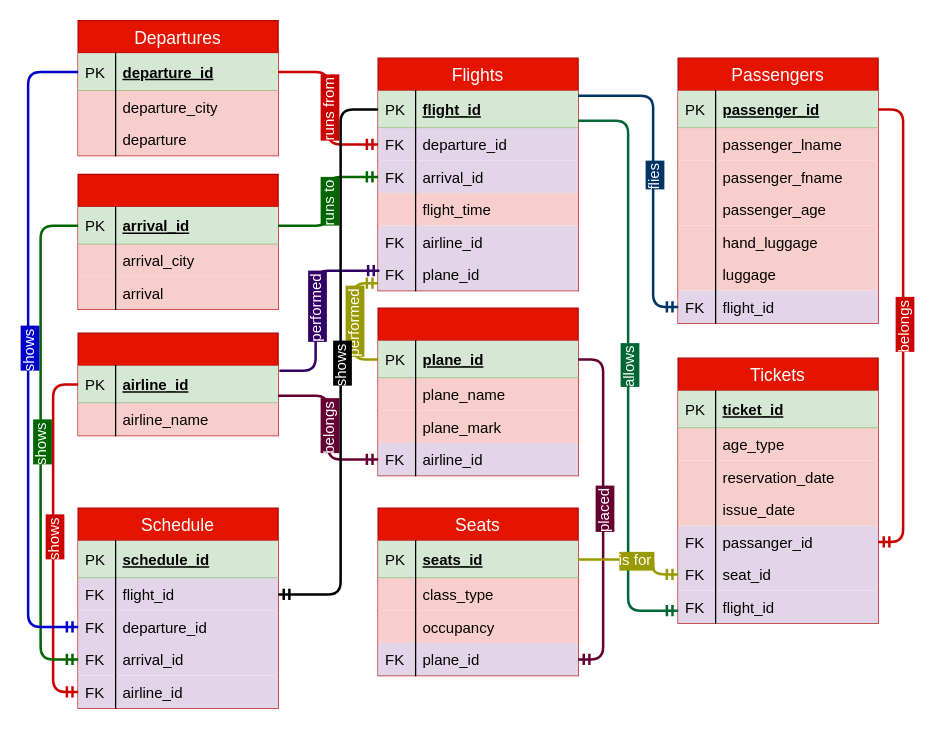
Some shapes in this 935 by 729 pixel diagram are drawn without their labels. The shapes that lost their labels are listed below. From the top down, each one's box as (x1, y1, x2, y2) in pixels, then its label:
(77, 173, 278, 309): Arrivals
(77, 332, 278, 436): Airlines
(377, 307, 578, 476): Planes
